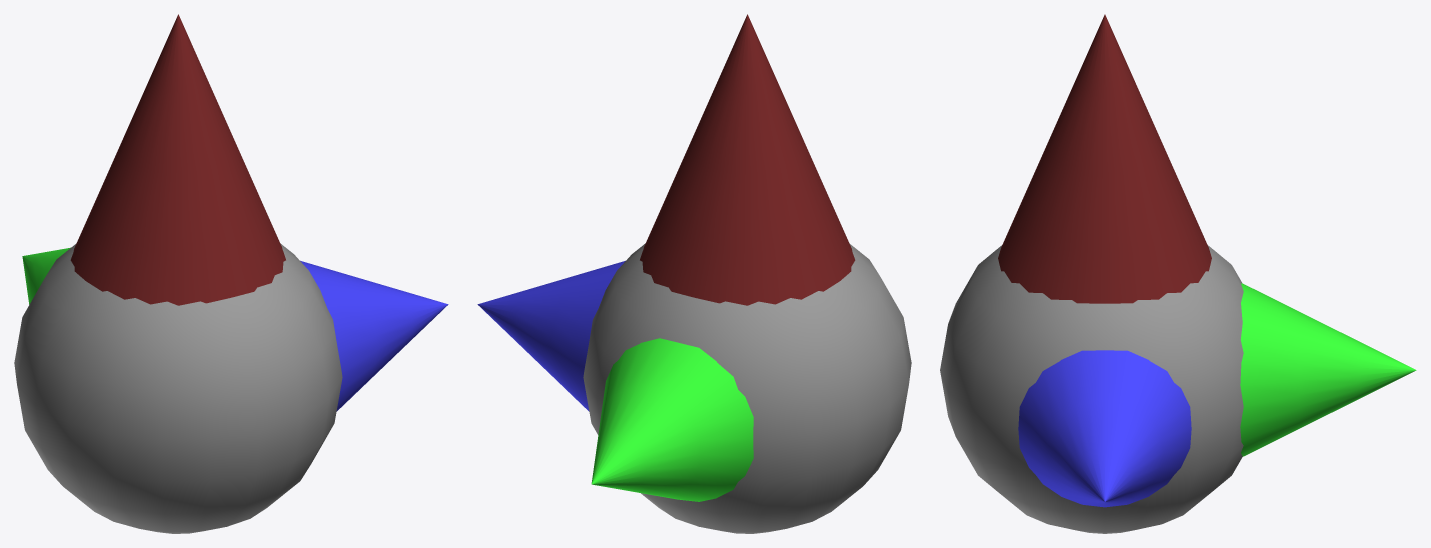
The model's file is CPGizmo.FBX.
3 views of the same model, side by side, from view 1: azimuth 30°, elevation 25°; view 2: azimuth 150°, elevation 25°; view 3: azimuth 270°, elevation 25° (orthographic).
Parts seen in each view (by area): view 1: CPGizmo; view 2: CPGizmo; view 3: CPGizmo.
Part boxes in pixels (<box>): CPGizmo: <box>14,14,448,533</box>; CPGizmo: <box>477,14,911,533</box>; CPGizmo: <box>940,14,1416,533</box>.
Bounding box in the file's own units: 1.45 × 1.69 × 1.45.
